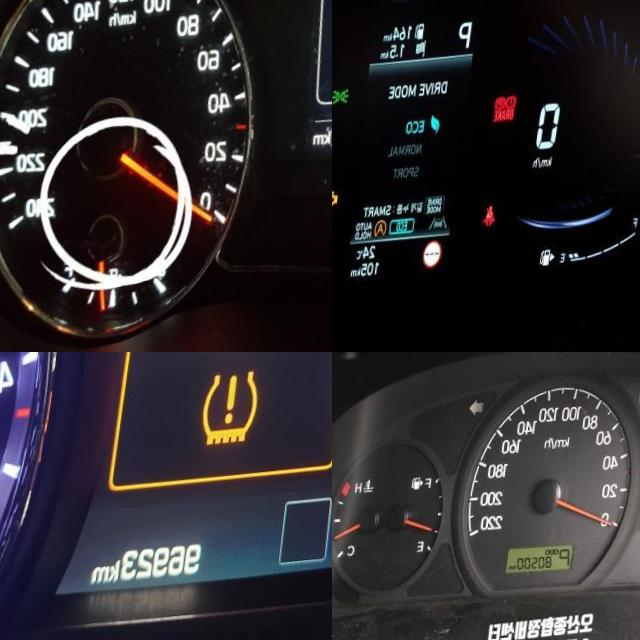SideLamp: (338, 92, 358, 110)
